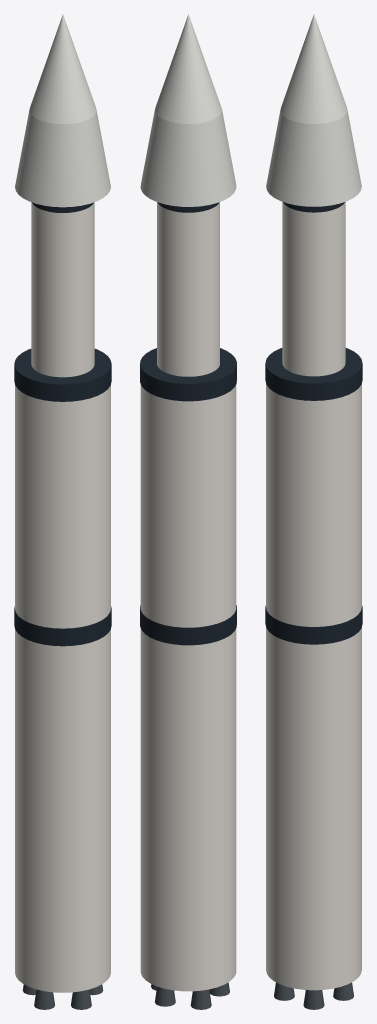
File: saturnv.glb
3 views of the same model, side by side, from view 1: azimuth 90°, elevation 25°; view 2: azimuth 150°, elevation 25°; view 3: azimuth 270°, elevation 25° (orthographic).
Visible parts, largest first — view 1: body-0, body-1, body-2, fairing, nose, interstage-1, interstage-0, engine-0-2, engine-0-3, interstage-2; view 2: body-0, body-1, body-2, fairing, nose, interstage-1, interstage-0, engine-0-3, engine-0-4, interstage-2; view 3: body-0, body-1, body-2, fairing, nose, interstage-1, interstage-0, engine-0-0, interstage-2, engine-0-1, engine-0-4.
Boxes of the visible parts, x1,y1,x2,y2 form: body-0: (15, 629, 110, 992); body-1: (15, 385, 110, 628); body-2: (31, 202, 94, 377); fairing: (15, 111, 110, 207); nose: (29, 14, 96, 124); interstage-1: (14, 348, 111, 401); interstage-0: (14, 606, 111, 646); engine-0-2: (71, 989, 91, 1009); engine-0-3: (34, 989, 54, 1009); interstage-2: (32, 202, 93, 212); body-0: (140, 628, 236, 991); body-1: (140, 384, 236, 627); body-2: (157, 202, 219, 376); fairing: (140, 110, 236, 206); nose: (155, 14, 221, 123); interstage-1: (140, 348, 236, 401); interstage-0: (140, 605, 236, 645); engine-0-3: (190, 989, 211, 1009); engine-0-4: (155, 986, 175, 1006); interstage-2: (157, 202, 219, 212); body-0: (266, 627, 361, 990); body-1: (266, 383, 361, 626); body-2: (282, 202, 345, 376); fairing: (266, 110, 361, 206); nose: (280, 14, 347, 123); interstage-1: (265, 348, 362, 400); interstage-0: (265, 605, 362, 644); engine-0-0: (303, 990, 324, 1009); interstage-2: (283, 202, 344, 212); engine-0-1: (274, 982, 294, 1000); engine-0-4: (333, 982, 353, 1000).
Bounding box in the file's own units: 10.18 × 113 × 10.18.
